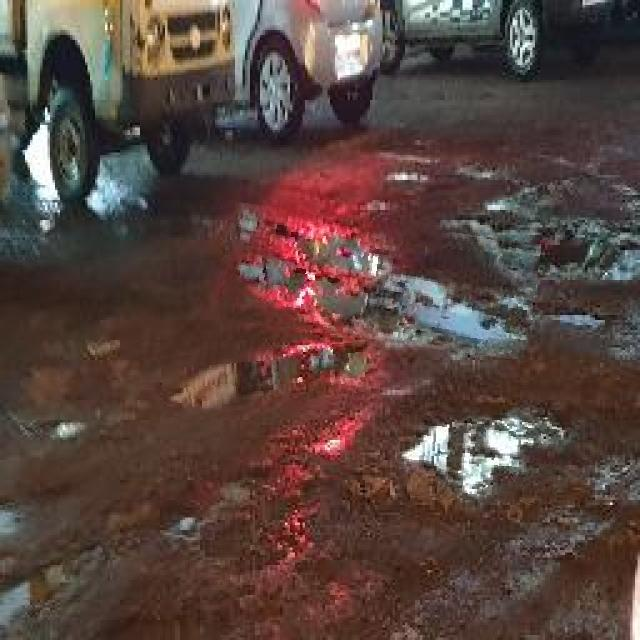puddle: (224, 214, 539, 352), (398, 413, 573, 505), (162, 345, 380, 413)
